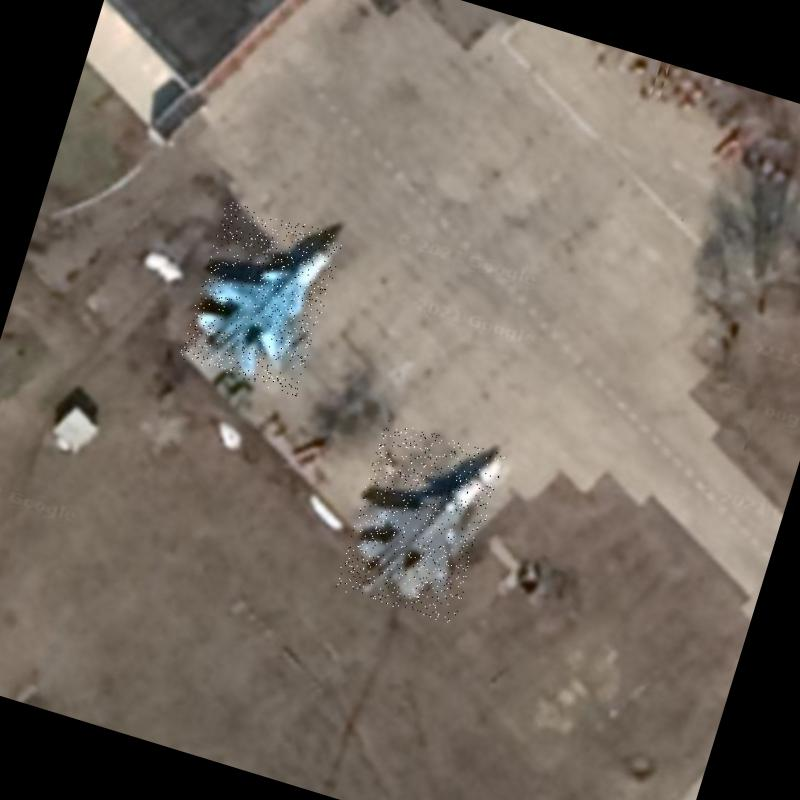A19: (334, 418, 506, 626), (178, 200, 345, 396)
